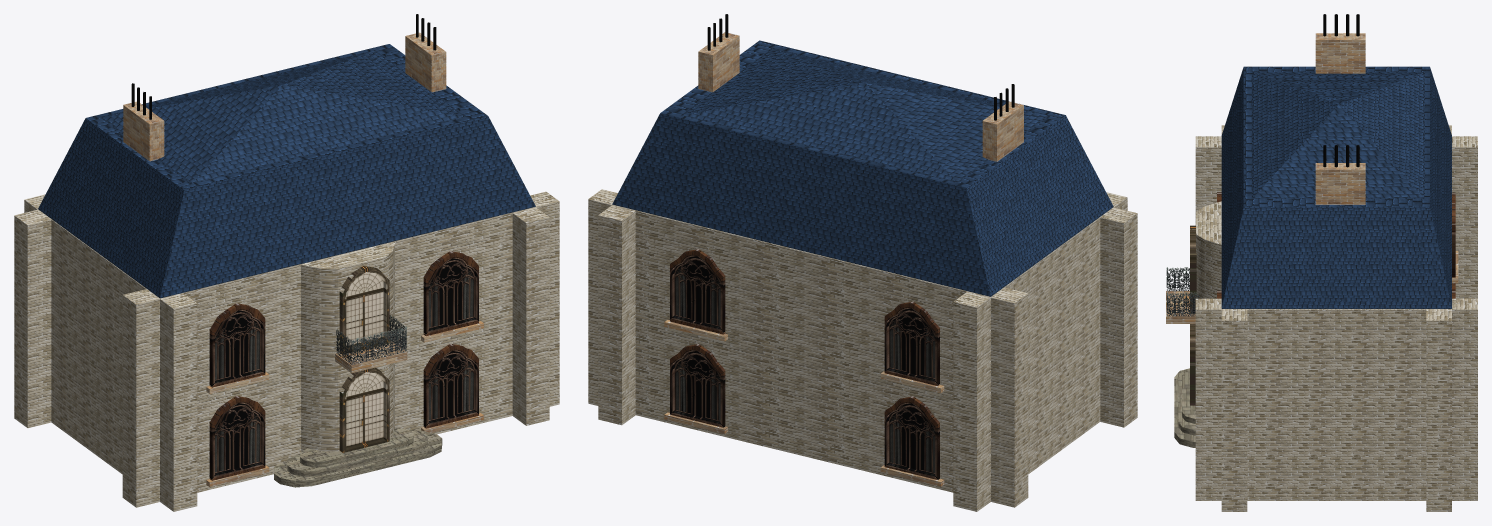
Rendered from Hut.obj.
3 renders of one model, left to right at view 1: azimuth 30°, elevation 25°; view 2: azimuth 150°, elevation 25°; view 3: azimuth 270°, elevation 25°, orthographic. The views are drawn at different scales.
Visible parts, largest first — view 1: Line002, toit, window, Line007, Rectangle001, Box003, support, Plane001, Cylinder004; view 2: Line002, toit, window, Box003, support, Cylinder004; view 3: Line002, toit, Box003, Rectangle001, Plane001, Line007, support, Cylinder004, window.
Boxes of the visible parts, left/top/right/bottom form: Line002: left=14, top=191, right=559, bottom=511; toit: left=38, top=44, right=535, bottom=298; window: left=209, top=251, right=478, bottom=480; Line007: left=339, top=266, right=389, bottom=452; Rectangle001: left=274, top=428, right=442, bottom=487; Box003: left=123, top=32, right=446, bottom=161; support: left=206, top=321, right=483, bottom=486; Plane001: left=336, top=315, right=406, bottom=364; Cylinder004: left=131, top=14, right=436, bottom=119; Line002: left=588, top=189, right=1137, bottom=511; toit: left=612, top=40, right=1113, bottom=296; window: left=670, top=249, right=939, bottom=479; Box003: left=698, top=32, right=1023, bottom=161; support: left=664, top=319, right=944, bottom=486; Cylinder004: left=707, top=14, right=1014, bottom=120; Line002: left=1195, top=125, right=1477, bottom=511; toit: left=1221, top=66, right=1451, bottom=308; Box003: left=1315, top=33, right=1365, bottom=204; Rectangle001: left=1174, top=368, right=1195, bottom=447; Plane001: left=1166, top=267, right=1199, bottom=316; Line007: left=1190, top=225, right=1196, bottom=405; support: left=1166, top=251, right=1458, bottom=323; Cylinder004: left=1323, top=14, right=1359, bottom=167; window: left=1217, top=192, right=1455, bottom=298.
Size of the model in its own units: 22.08 by 17.64 by 14.93.
